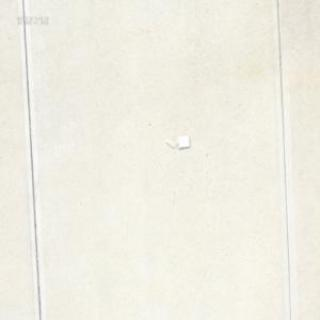LuggageTagtrack_idkeyframe: (163, 132, 190, 150)
